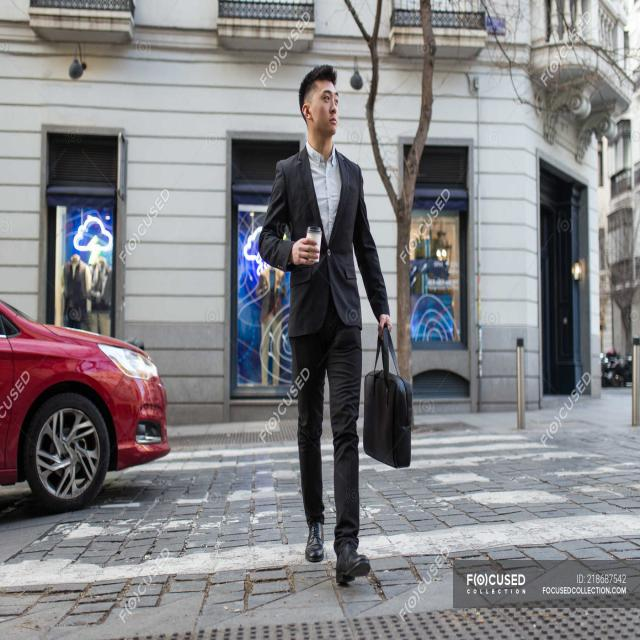Person: (259, 66, 413, 586)
